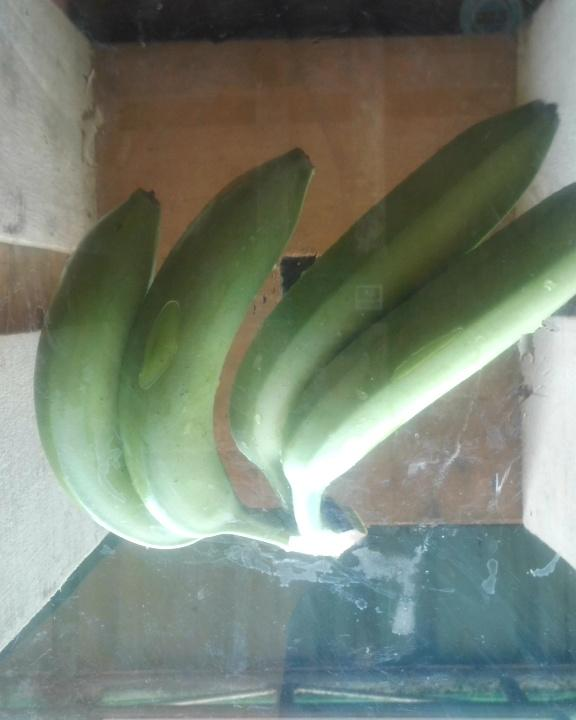SPOT: (27, 96, 576, 558)
